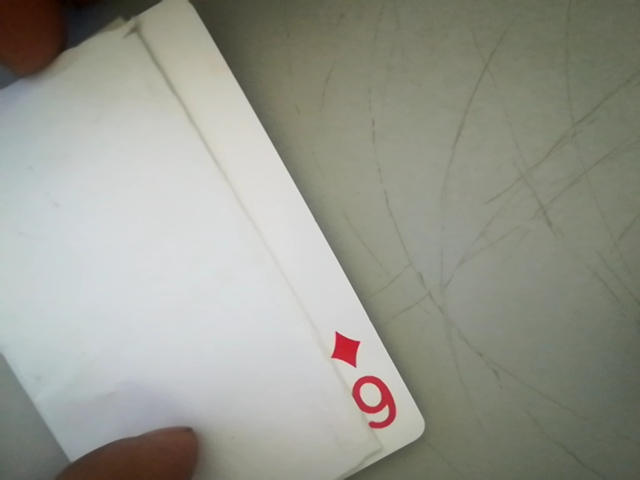fk 6: (323, 329, 411, 442)
